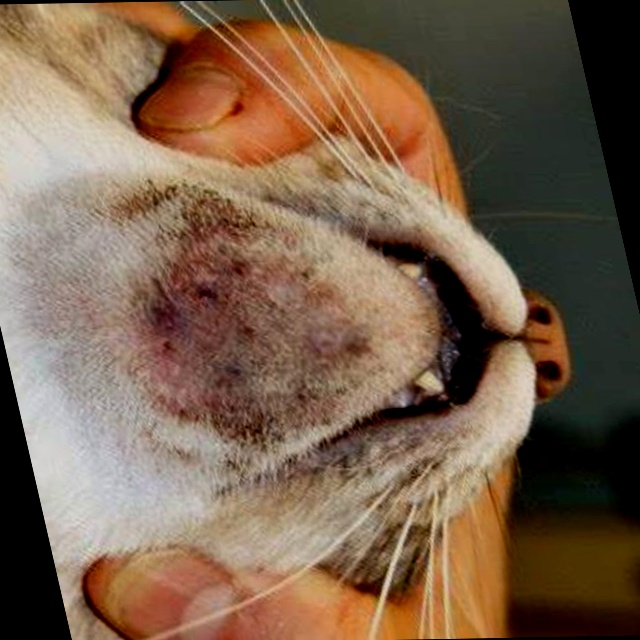acne: (105, 198, 392, 456)
